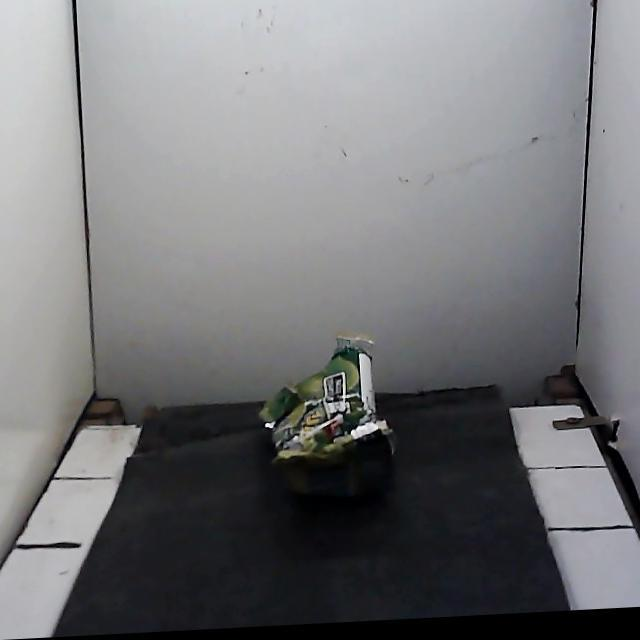plastico: (259, 335, 394, 495)
